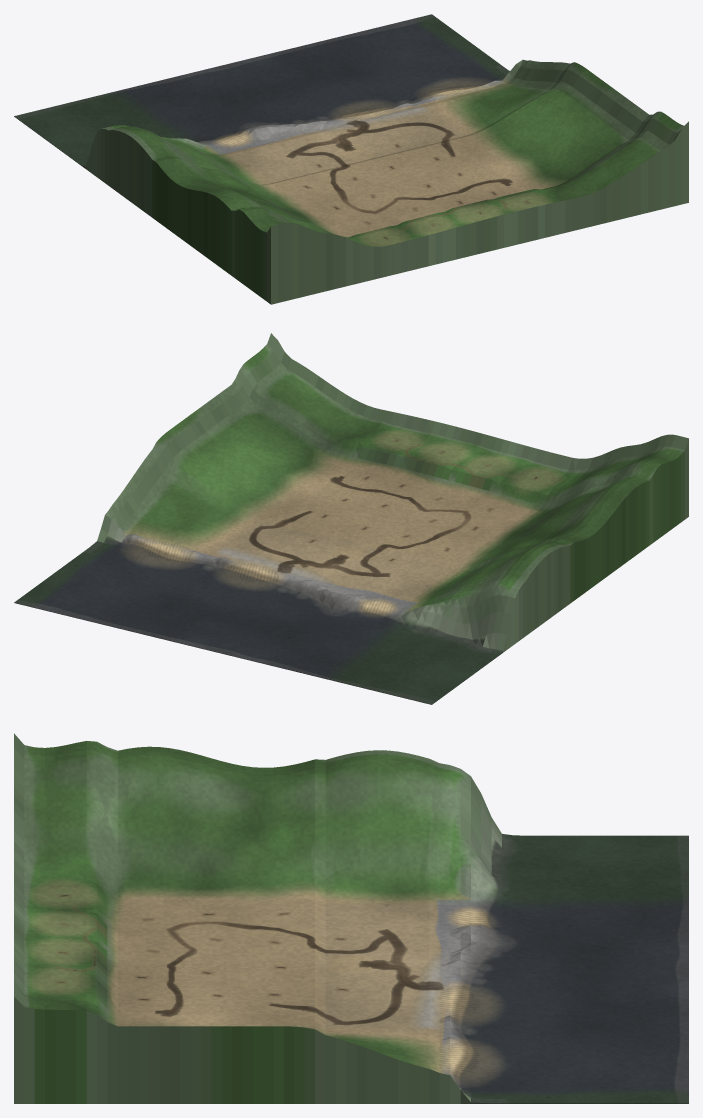
File: village_ground.fbx
3 views of the same model, one above another, from view 1: azimuth 30°, elevation 25°; view 2: azimuth 150°, elevation 25°; view 3: azimuth 270°, elevation 25° (orthographic). The views are drawn at different scales.
Visible parts, largest first — view 1: village_ground; view 2: village_ground; view 3: village_ground.
Boxes of the visible parts, box(x1,y1,x2,y2) form: village_ground: box(14, 14, 688, 304); village_ground: box(14, 333, 688, 704); village_ground: box(14, 733, 688, 1103).
Size of the model in its own units: 9150 by 1711 by 9750.
